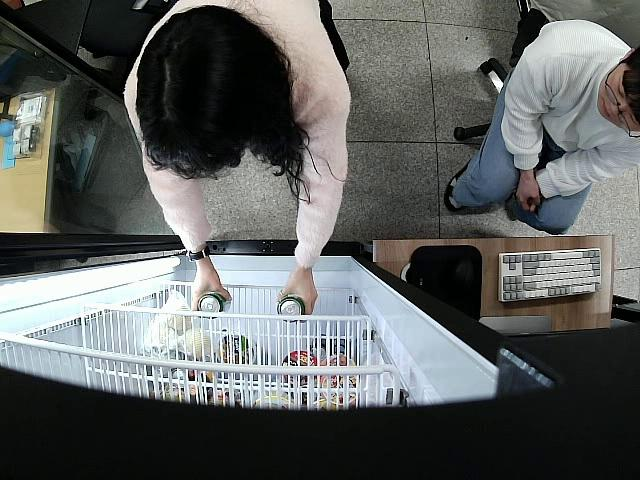00_hand: (275, 275, 317, 323), (191, 276, 231, 319)
12_chilsungCider: (197, 291, 231, 320), (277, 295, 305, 324)
